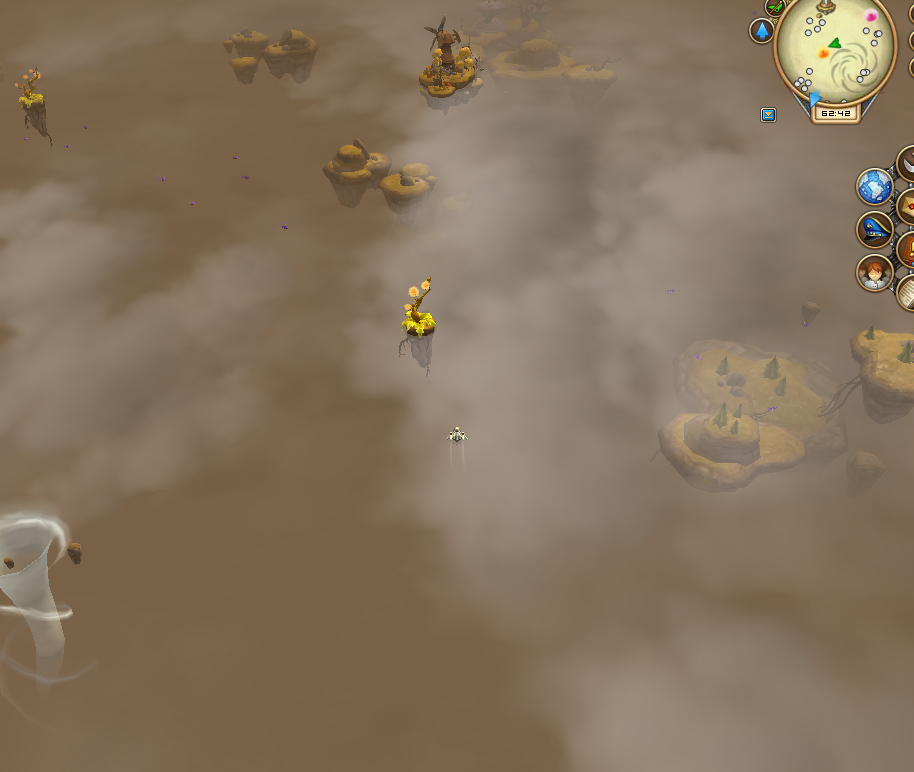dandelion-full: (391, 270, 441, 357), (4, 56, 55, 129)
